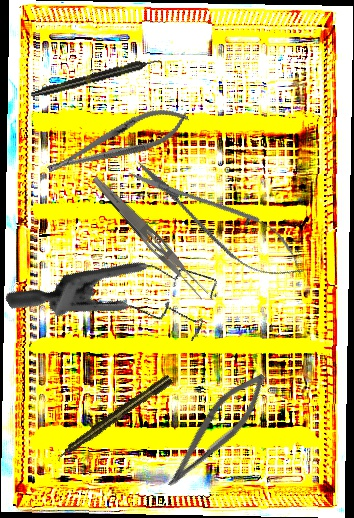Dressing Forceps: (86, 173, 212, 303)
Handpiece: (52, 373, 175, 464), (29, 54, 164, 101)
Micro Scissor: (118, 145, 316, 295), (158, 362, 276, 500)
Needle Holder: (41, 97, 194, 187)
Speculum: (3, 197, 237, 413)
